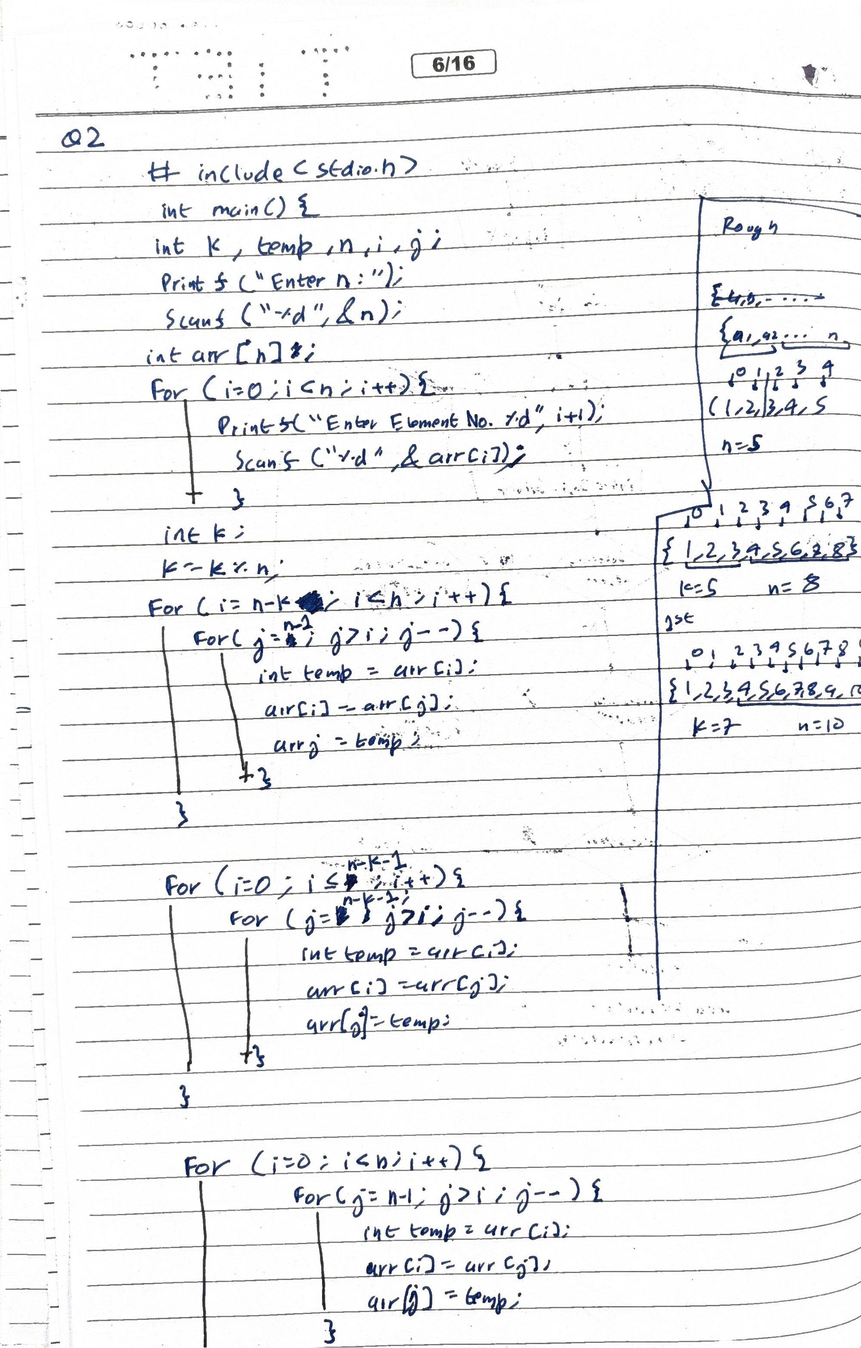cuttings: (709, 281, 827, 309), (294, 589, 325, 615), (343, 872, 359, 892), (335, 905, 350, 926), (290, 341, 303, 359), (284, 633, 297, 649), (360, 908, 371, 924)
